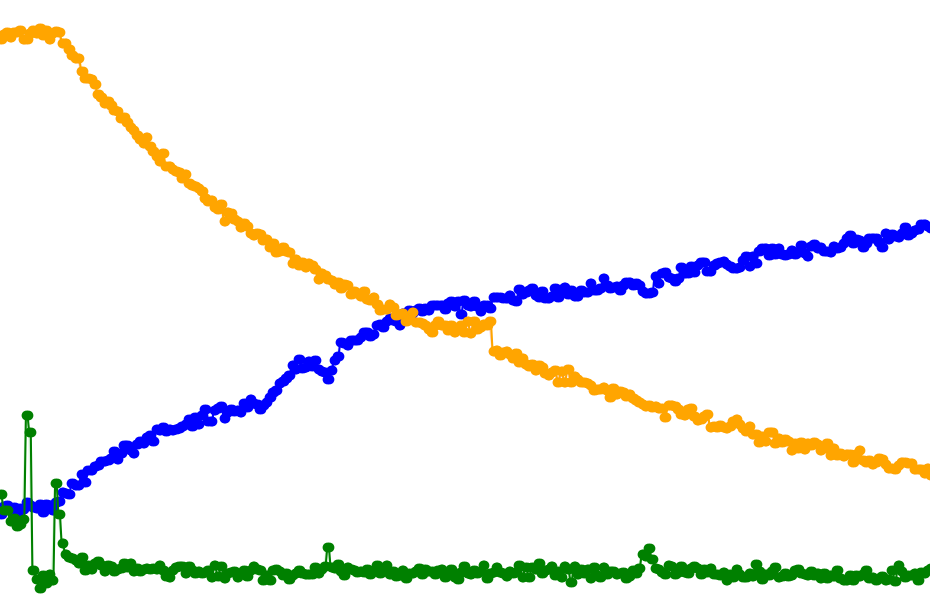CO2 Problem: (116, 0, 930, 616), (622, 0, 930, 616), (38, 0, 116, 616)
Condensation CO2: (116, 0, 349, 616), (38, 0, 116, 616)
High CO2: (661, 0, 816, 616), (816, 0, 930, 616)
Lid Open: (816, 0, 930, 616)
Low CO2: (116, 0, 930, 616), (311, 0, 622, 616), (622, 0, 930, 616), (388, 0, 622, 616), (116, 0, 349, 616), (622, 0, 816, 616), (816, 0, 930, 616), (38, 0, 116, 616), (311, 0, 388, 616)
Normal: (38, 0, 930, 616), (116, 0, 930, 616), (388, 0, 930, 616), (116, 0, 622, 616), (38, 0, 505, 616), (194, 0, 622, 616), (38, 0, 349, 616), (311, 0, 622, 616), (622, 0, 930, 616), (388, 0, 622, 616), (622, 0, 816, 616), (116, 0, 272, 616), (194, 0, 311, 616), (0, 0, 116, 616), (816, 0, 930, 616), (38, 0, 116, 616), (116, 0, 194, 616), (311, 0, 388, 616)
O2 Problem: (116, 0, 930, 616), (311, 0, 622, 616), (622, 0, 930, 616), (388, 0, 622, 616), (622, 0, 816, 616), (116, 0, 272, 616), (816, 0, 930, 616), (194, 0, 272, 616), (311, 0, 388, 616)
